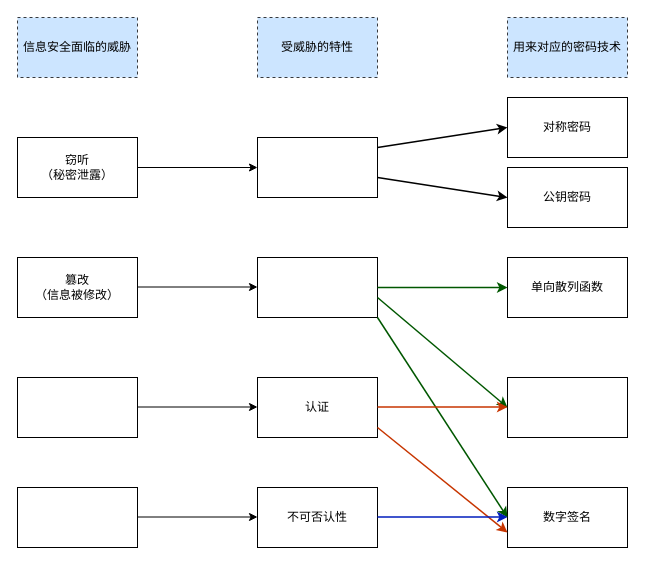
The diagram is 645 pixels wide and 565 high, and some of its shapes have lost their labels. The centre of each missing label's shape, as x and y in pixels:
"伪装 （伪装成真正的发送者）" belongs at point 77,407.
"否认 （事后称自己没有做）" belongs at point 77,517.
"完整性" belongs at point 317,287.
"机密性" belongs at point 317,167.
"消息认证码" belongs at point 567,407.
